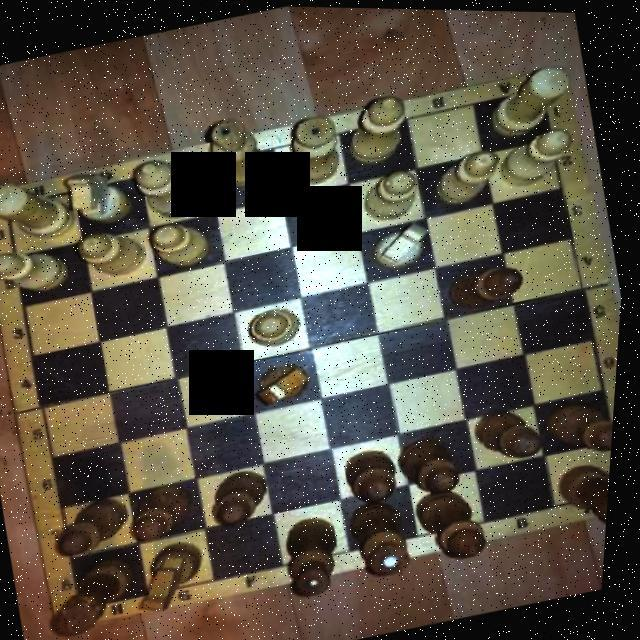chess-table-corners: (52, 574, 127, 632), (502, 60, 576, 117), (0, 178, 48, 238), (586, 458, 616, 514)
